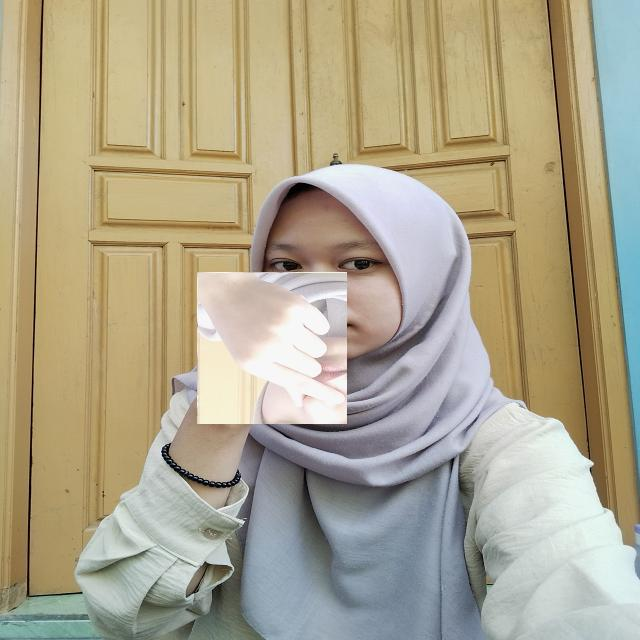bau: (197, 272, 347, 424)
